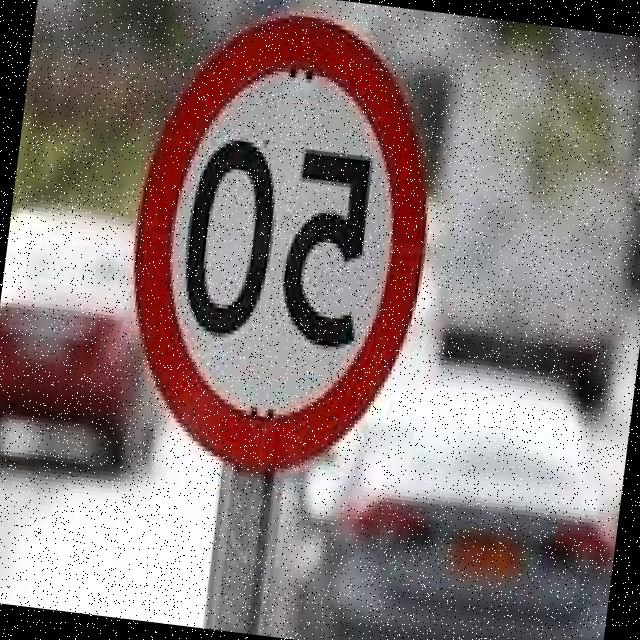speed_limit_50: (102, 0, 463, 491)
